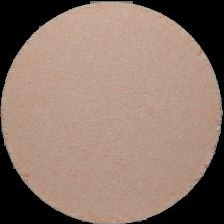63304-553: (0, 0, 224, 224)
